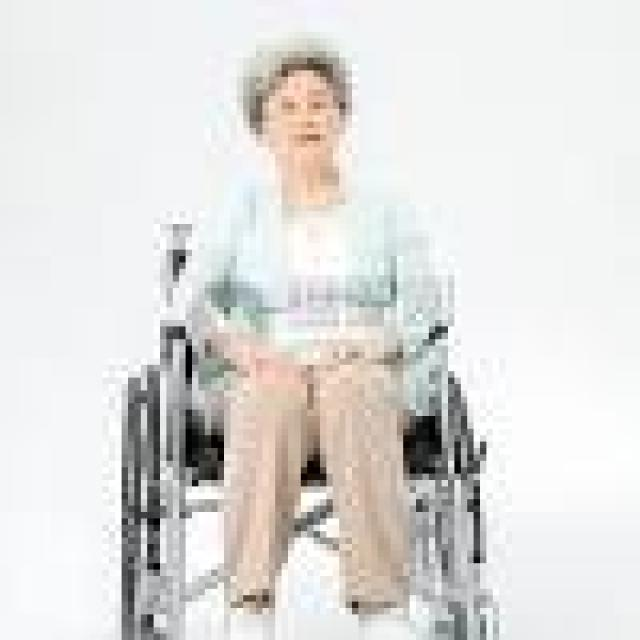wheelchairs: (115, 192, 531, 634)
